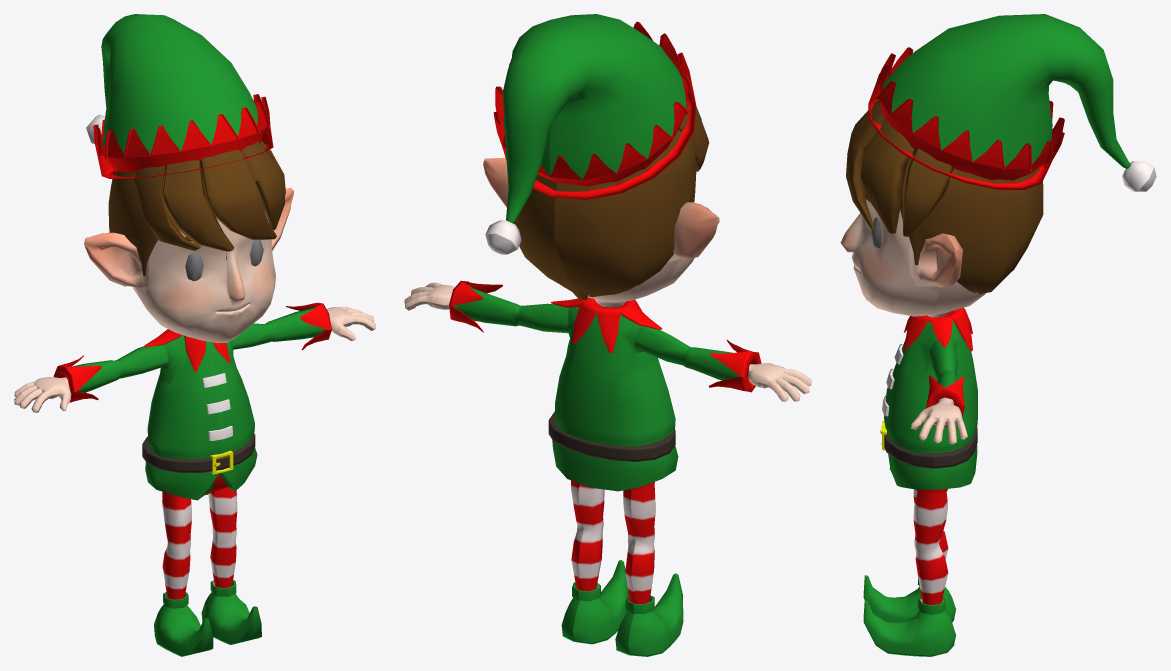
File: elfboy3GLBB.glb
3 views of the same model, side by side, from view 1: azimuth 30°, elevation 25°; view 2: azimuth 150°, elevation 25°; view 3: azimuth 270°, elevation 25° (orthographic). The views are drawn at different scales.
Parts seen in each view (by area): view 1: body_Sphere_002, hat_Circle_001, hairfront_Sphere, hairbase_Sphere_004, belt_Circle, eyes_Cube_001; view 2: body_Sphere_002, hat_Circle_001, hairbase_Sphere_004, belt_Circle, hairfront_Sphere; view 3: body_Sphere_002, hat_Circle_001, hairbase_Sphere_004, hairfront_Sphere, belt_Circle.
Part boxes in pixels (bbox=[...]): body_Sphere_002: bbox=[14, 187, 375, 656]; hat_Circle_001: bbox=[86, 14, 273, 178]; hairfront_Sphere: bbox=[134, 141, 285, 251]; hairbase_Sphere_004: bbox=[108, 171, 264, 276]; belt_Circle: bbox=[142, 433, 255, 474]; eyes_Cube_001: bbox=[185, 239, 263, 281]; body_Sphere_002: bbox=[404, 157, 811, 656]; hat_Circle_001: bbox=[485, 14, 696, 254]; hairbase_Sphere_004: bbox=[513, 129, 696, 300]; belt_Circle: bbox=[548, 411, 675, 461]; hairfront_Sphere: bbox=[678, 103, 709, 171]; body_Sphere_002: bbox=[840, 199, 985, 656]; hat_Circle_001: bbox=[868, 14, 1156, 191]; hairbase_Sphere_004: bbox=[900, 168, 1043, 293]; hairfront_Sphere: bbox=[846, 100, 954, 236]; belt_Circle: bbox=[880, 421, 977, 468].
Bounding box in the file's own units: 0.0145 × 0.0226 × 0.0105.
2 materials, 1 textured.
